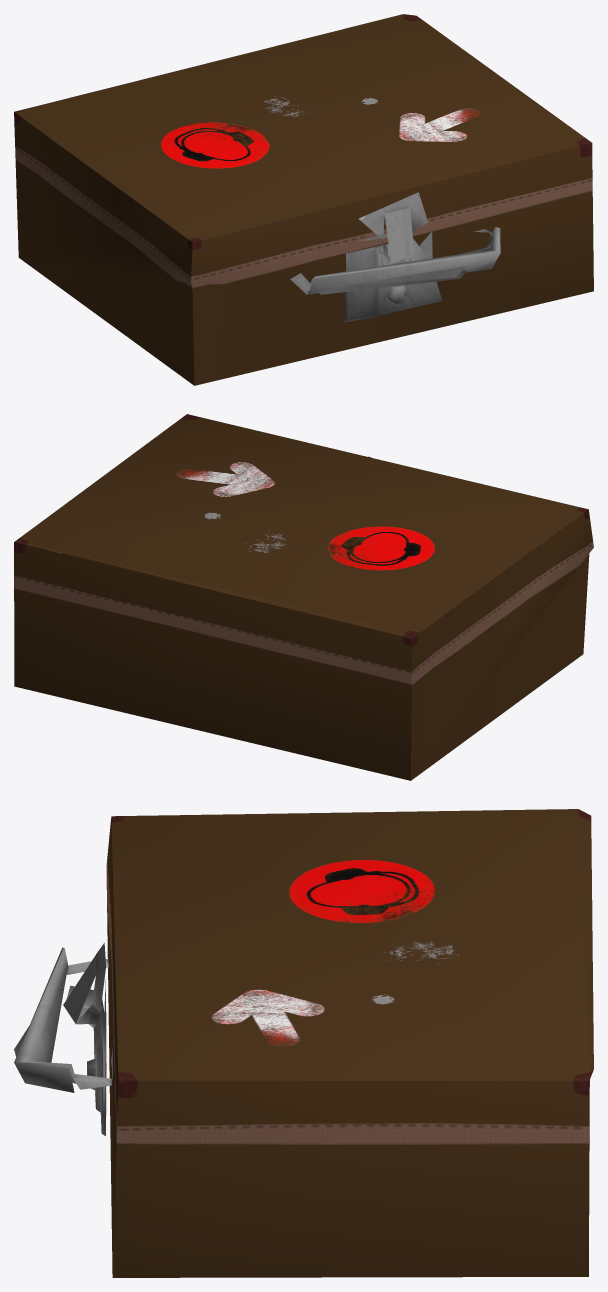
Rendered from bried case 1.fbx.
3 views of the same model, one above another, from view 1: azimuth 30°, elevation 25°; view 2: azimuth 150°, elevation 25°; view 3: azimuth 270°, elevation 25° (orthographic). The views are drawn at different scales.
Visible parts, largest first — view 1: handle_low; view 2: handle_low; view 3: handle_low.
Boxes of the visible parts, <box> form: handle_low: <box>14,14,593,385</box>; handle_low: <box>14,414,593,780</box>; handle_low: <box>14,809,593,1277</box>.
Bounding box in the file's own units: 952 × 338 × 876.
